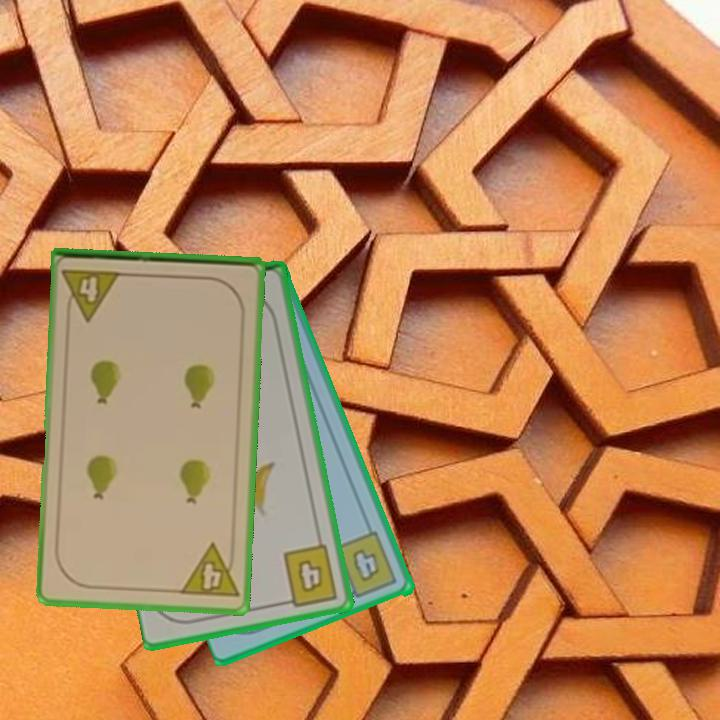4b: (333, 528, 401, 602), (279, 541, 341, 609)
4p: (176, 540, 242, 601), (59, 265, 124, 323)
